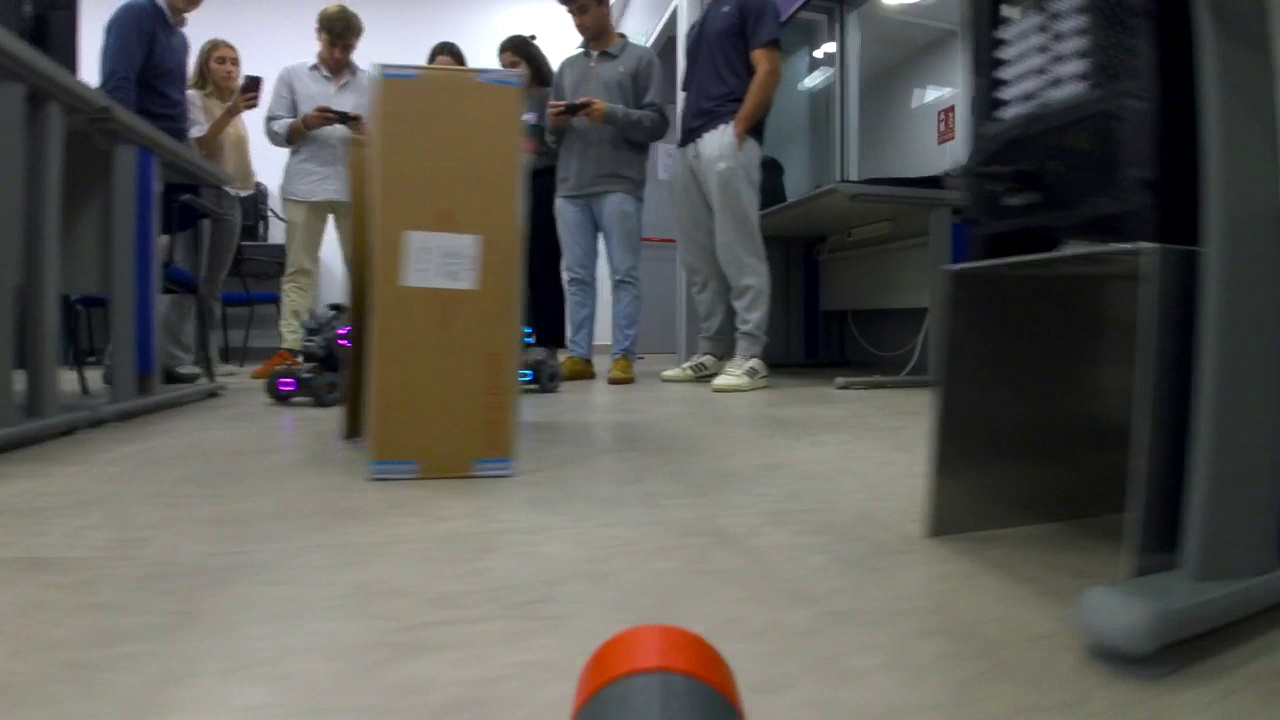robot: (259, 307, 357, 402)
